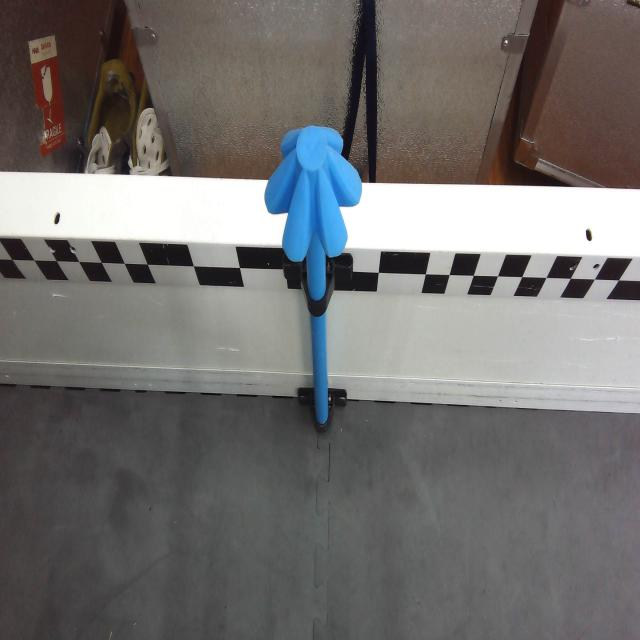zblue-Stake-Head: (266, 124, 363, 258)
